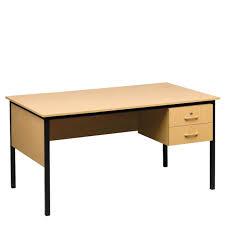desk: (2, 66, 223, 220)
